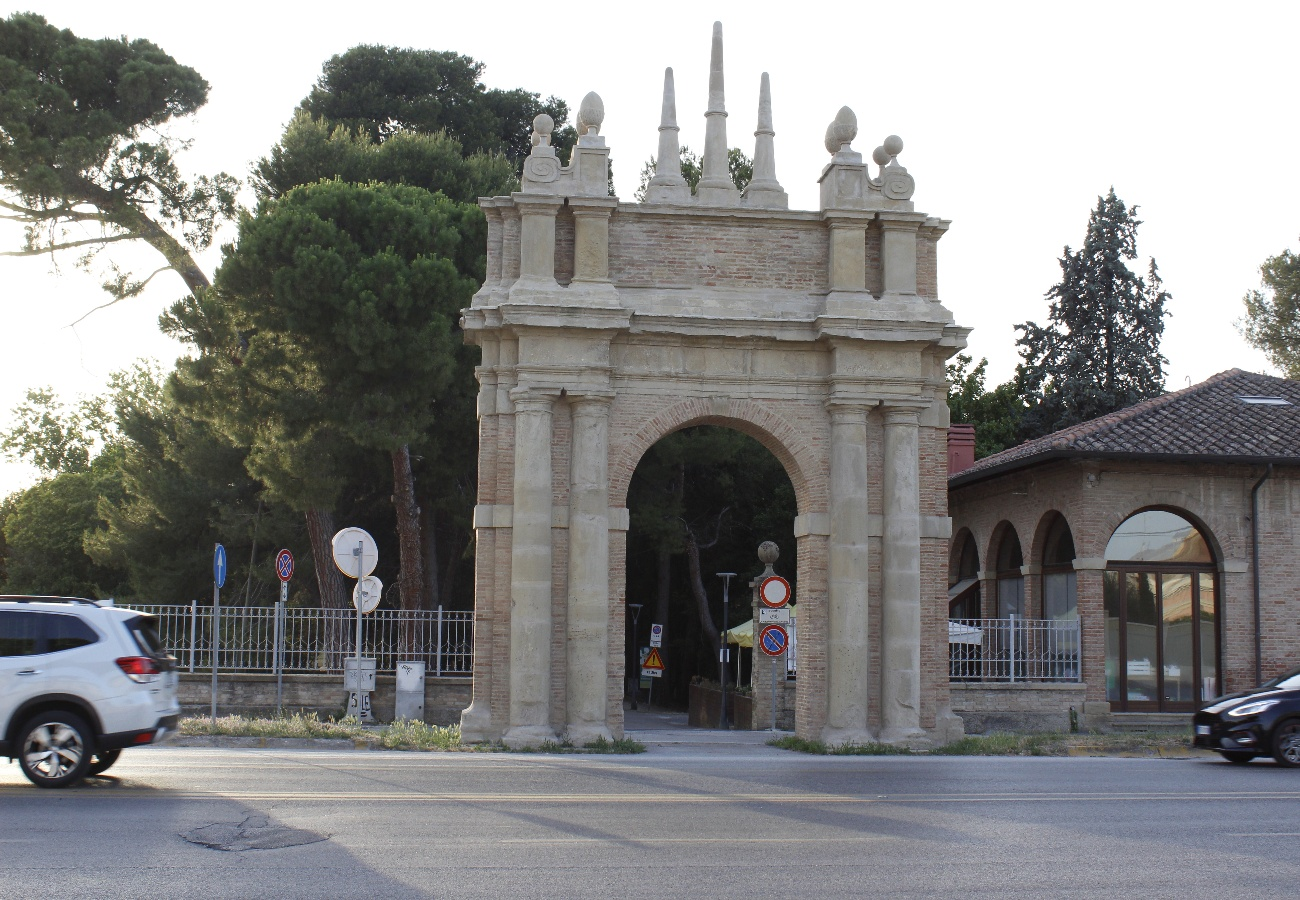Arco di Trionfo: (456, 19, 971, 754)
